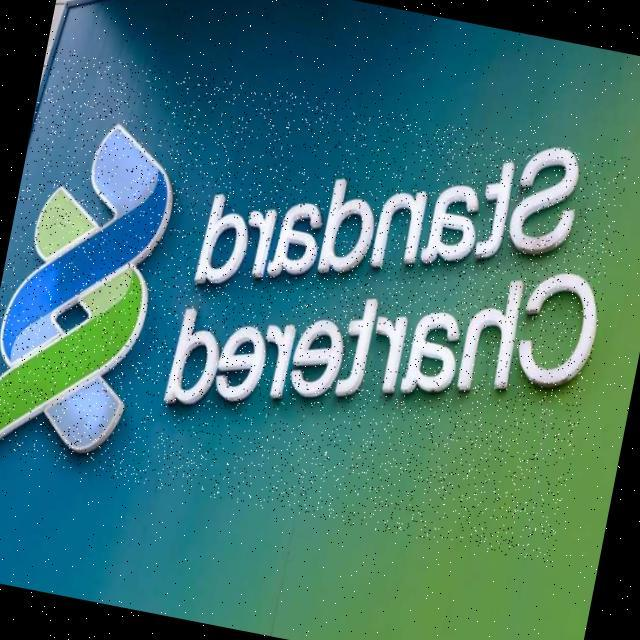Standard Chartered: (0, 45, 630, 565)
